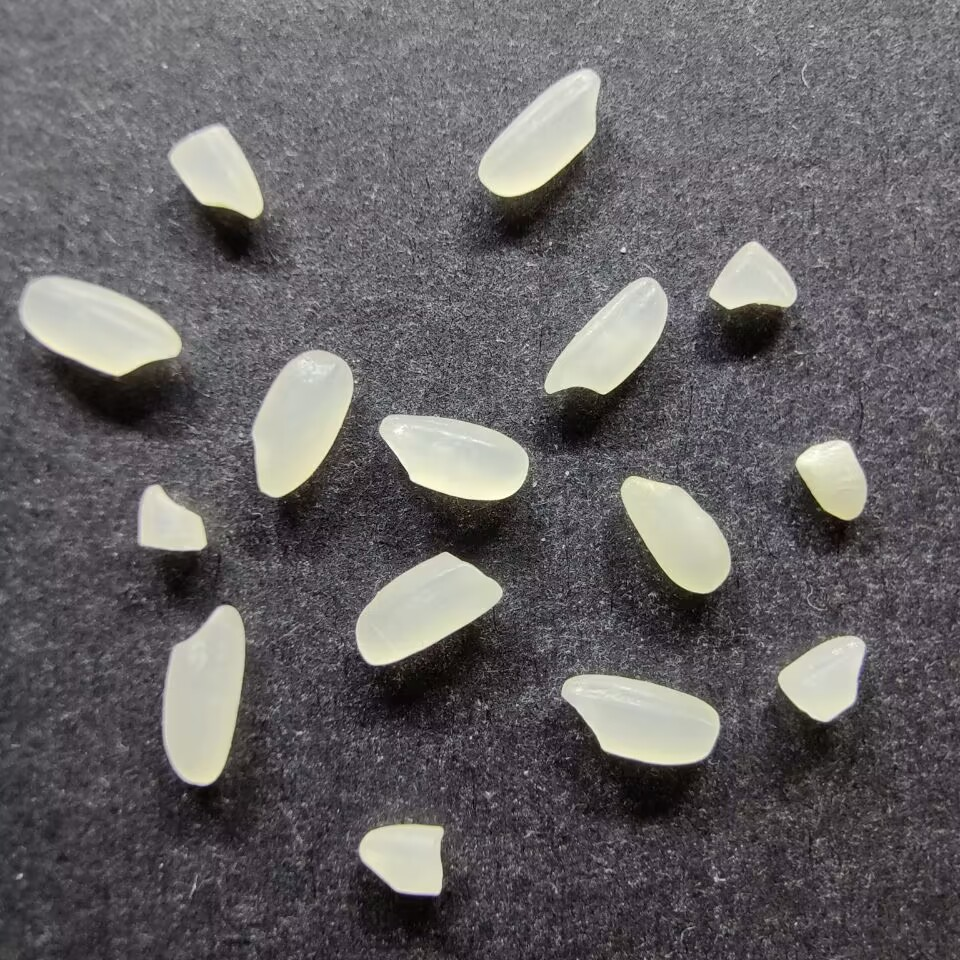broken: (166, 123, 266, 220), (775, 634, 868, 724), (706, 239, 800, 312), (356, 822, 447, 896), (794, 437, 869, 520), (136, 483, 209, 555)
rice: (353, 551, 504, 666), (16, 274, 183, 377), (475, 66, 603, 199), (159, 603, 248, 786), (248, 348, 354, 497), (543, 274, 670, 396), (558, 672, 720, 766), (618, 474, 735, 596), (376, 411, 529, 502)
